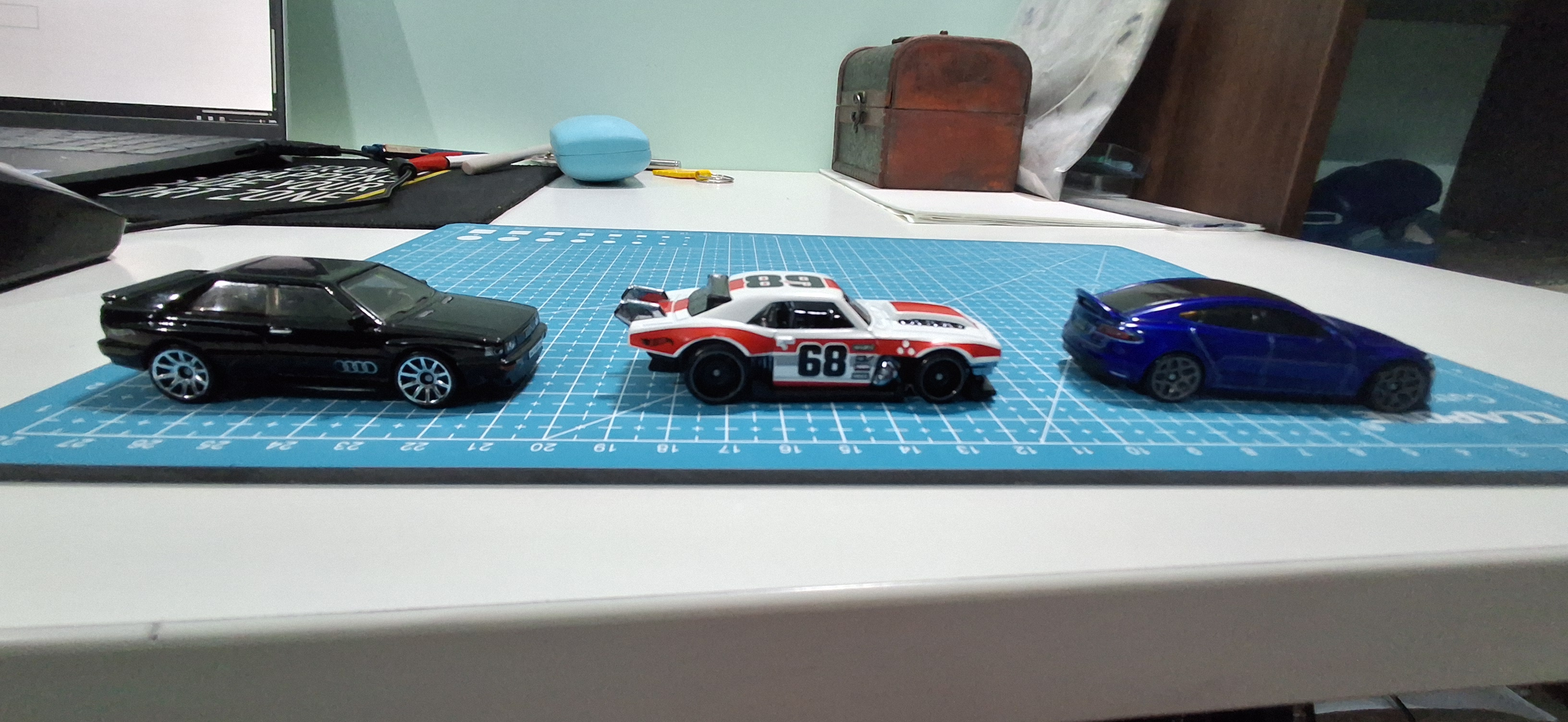Audi_Quattro: (68, 227, 558, 441)
Camaro: (597, 241, 1012, 446)
Tesla_Model_S_Plaid: (1049, 243, 1468, 444)
